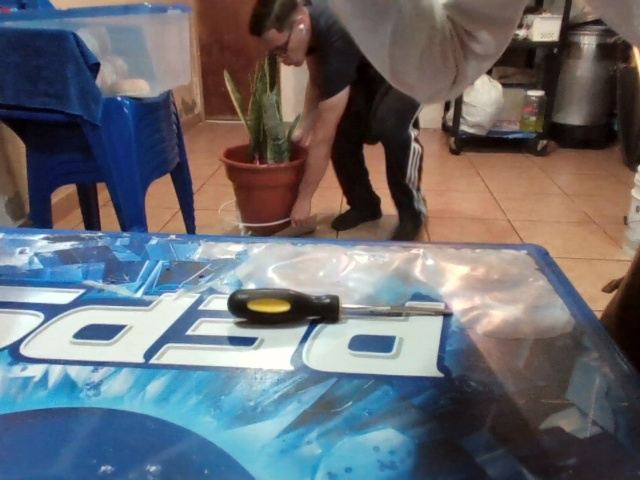destornillador: (227, 289, 455, 326)
